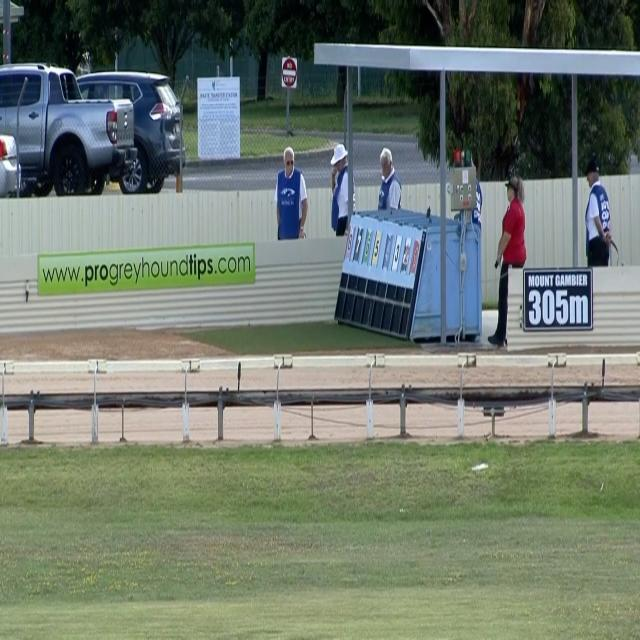rail: (0, 383, 639, 411)
